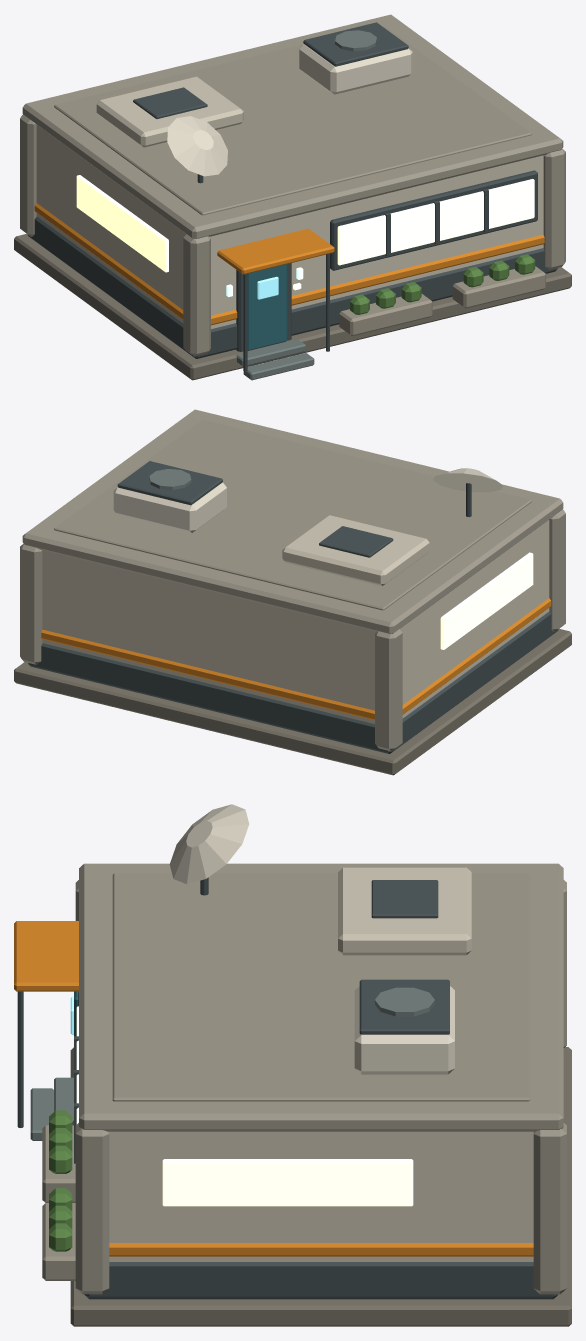
Rendered from fh_office.glb.
3 views of the same model, one above another, from view 1: azimuth 30°, elevation 25°; view 2: azimuth 150°, elevation 25°; view 3: azimuth 270°, elevation 25° (orthographic). The views are drawn at different scales.
Visible parts, largest first — view 1: fh_office; view 2: fh_office; view 3: fh_office.
Part boxes in pixels (bbox=[...]): fh_office: bbox=[14, 14, 571, 380]; fh_office: bbox=[14, 409, 571, 775]; fh_office: bbox=[14, 804, 571, 1326].
Bounding box in the file's own units: 3.7 × 1.91 × 3.34.
